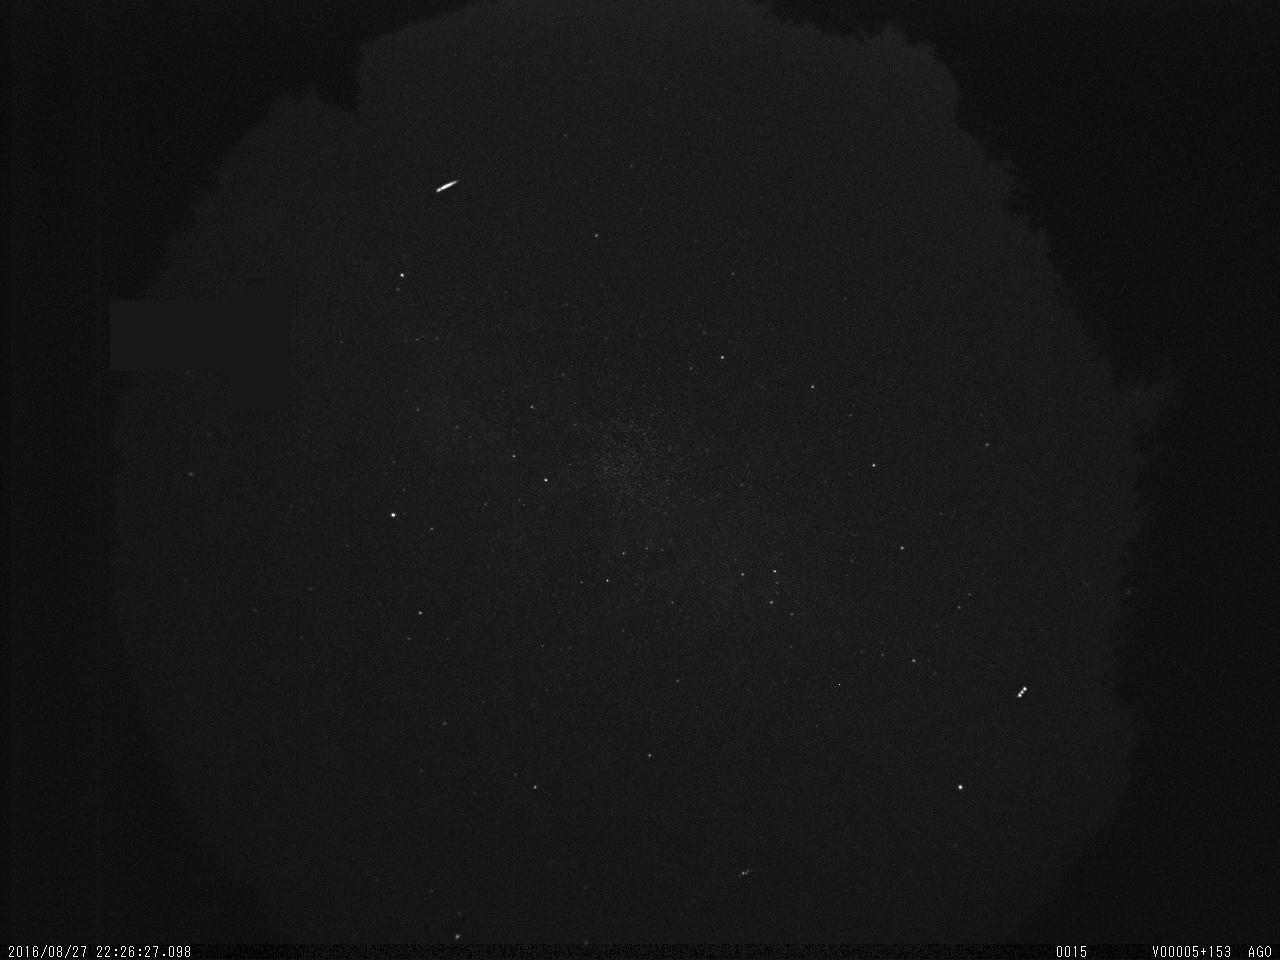meteor: (427, 173, 465, 198)
